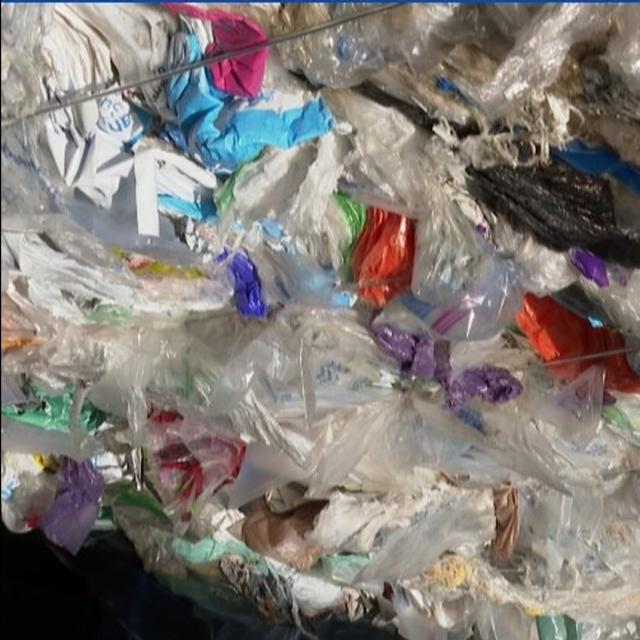Single-layer Plastic: (474, 5, 640, 126), (270, 4, 482, 88), (468, 164, 639, 266), (502, 391, 618, 514), (306, 390, 442, 482), (183, 323, 296, 427)
